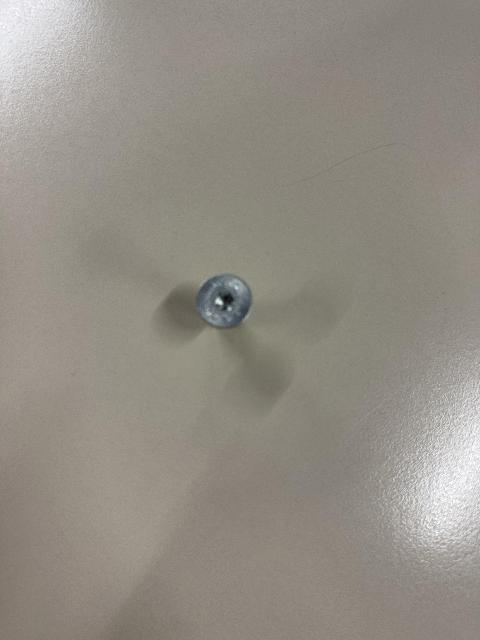Metal: (187, 262, 273, 338)
